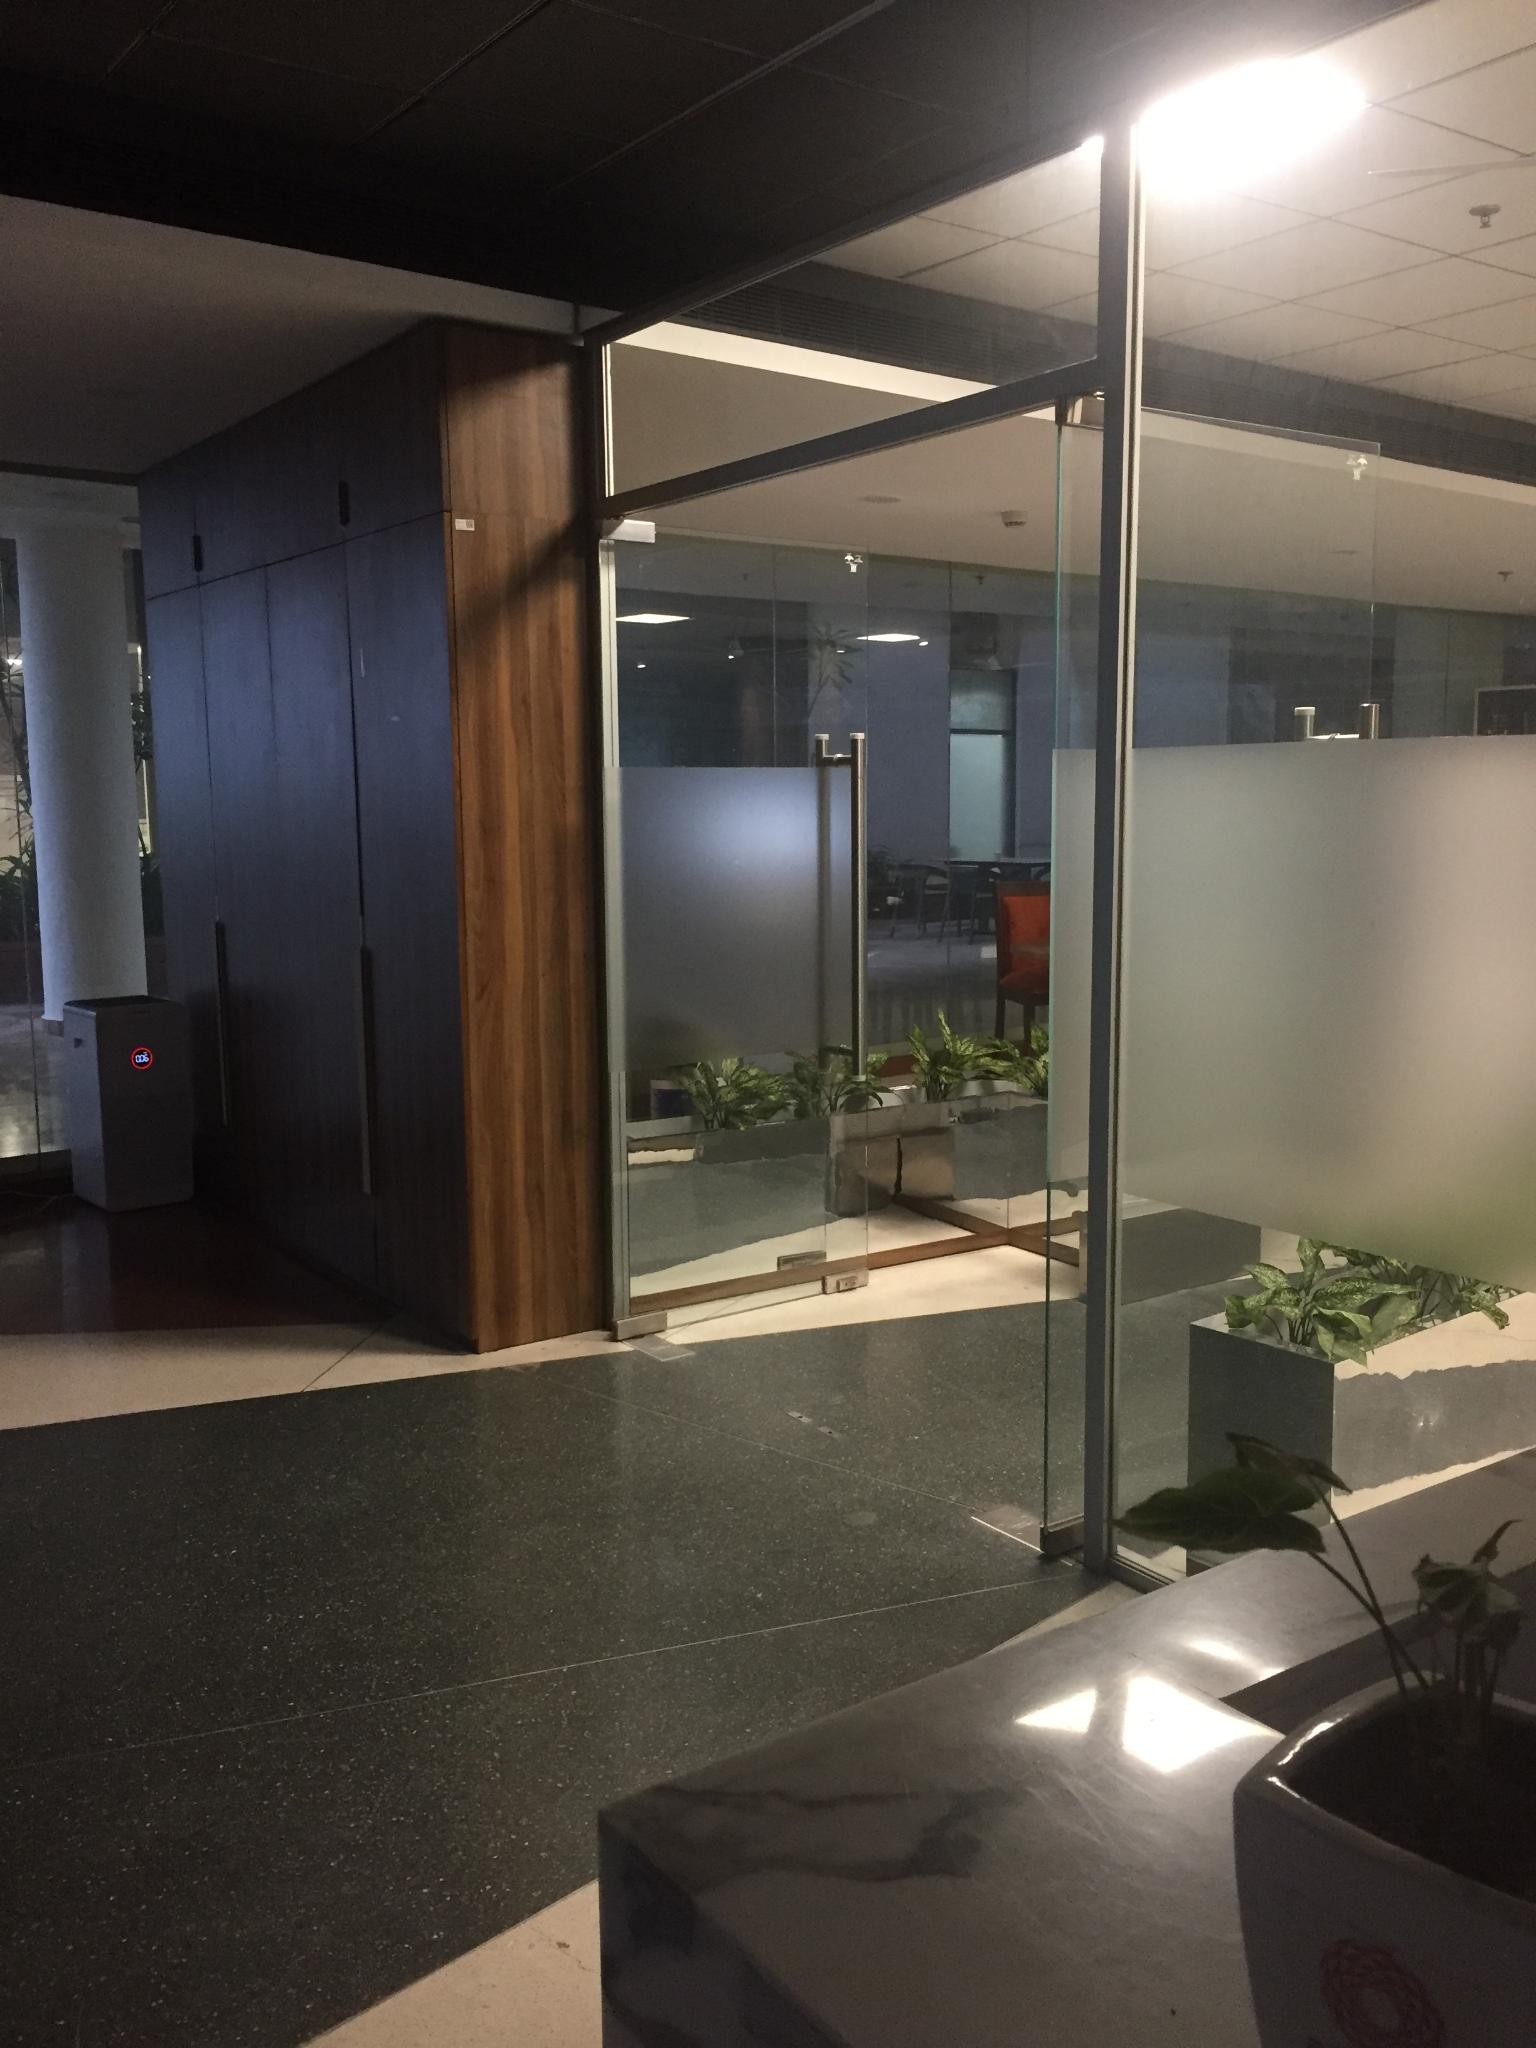chair: (991, 880, 1068, 1055), (887, 863, 933, 947), (942, 864, 984, 945)
